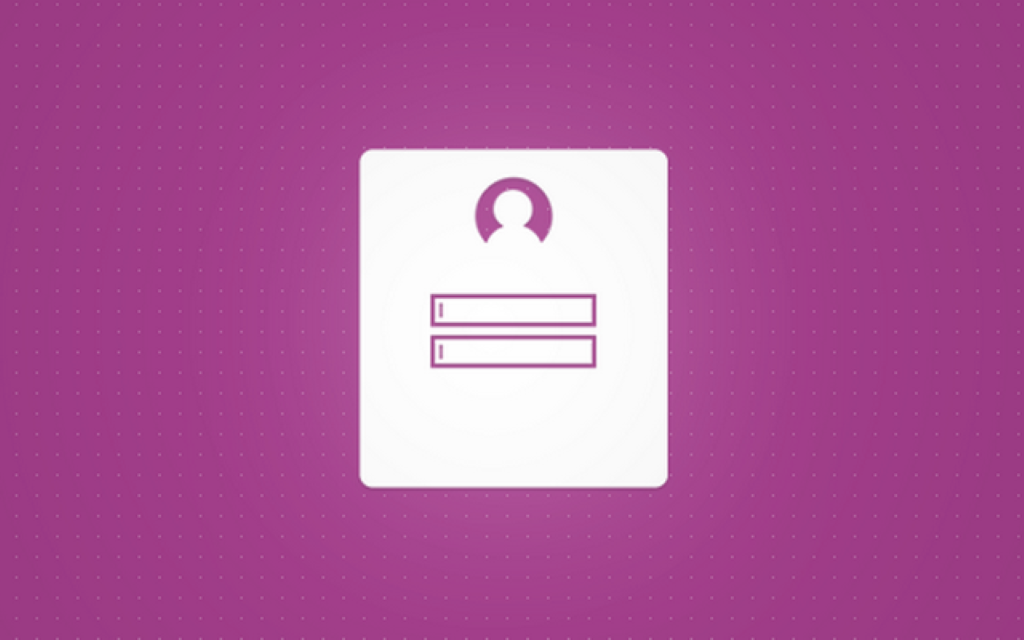textbox: (433, 294, 594, 324), (431, 338, 594, 366)
